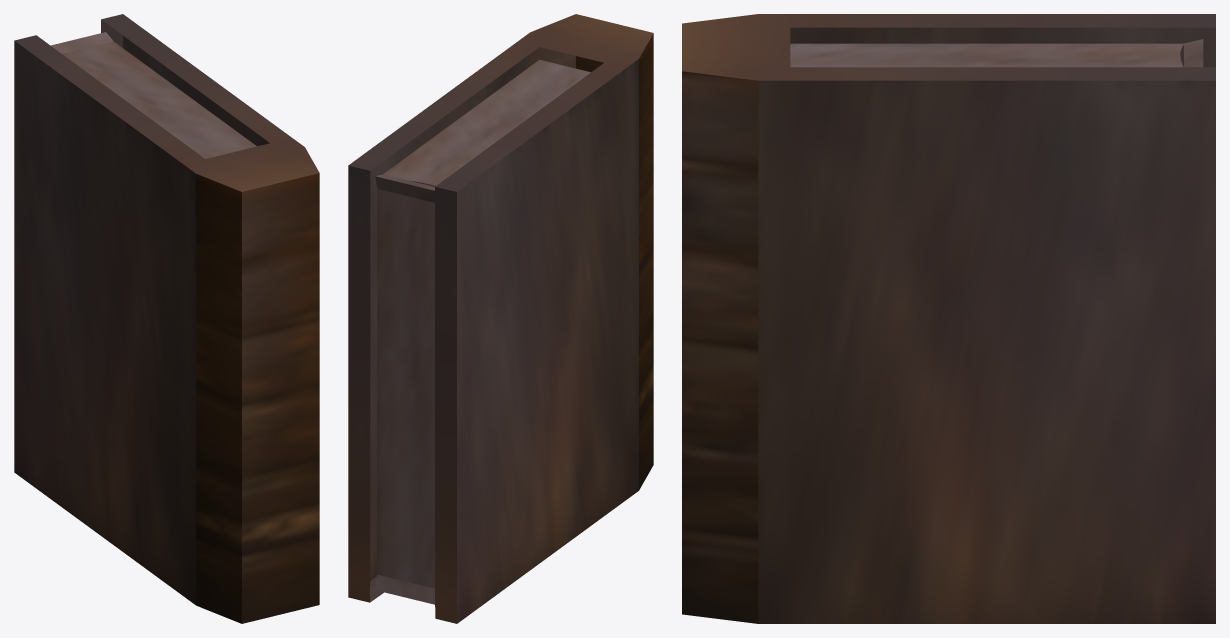
The model's file is Book.fbx.
The picture shows the model from 3 angles, left to right: view 1: azimuth 30°, elevation 25°; view 2: azimuth 150°, elevation 25°; view 3: azimuth 270°, elevation 25°; orthographic projection. The views are drawn at different scales.
Parts seen in each view (by area): view 1: Book; view 2: Book; view 3: Book.
Boxes of the visible parts, x1=… form: Book: x1=14, y1=14, x2=319, y2=623; Book: x1=348, y1=14, x2=653, y2=623; Book: x1=682, y1=14, x2=1215, y2=623.
Bounding box in the file's own units: 4.94 × 18.76 × 16.7.
